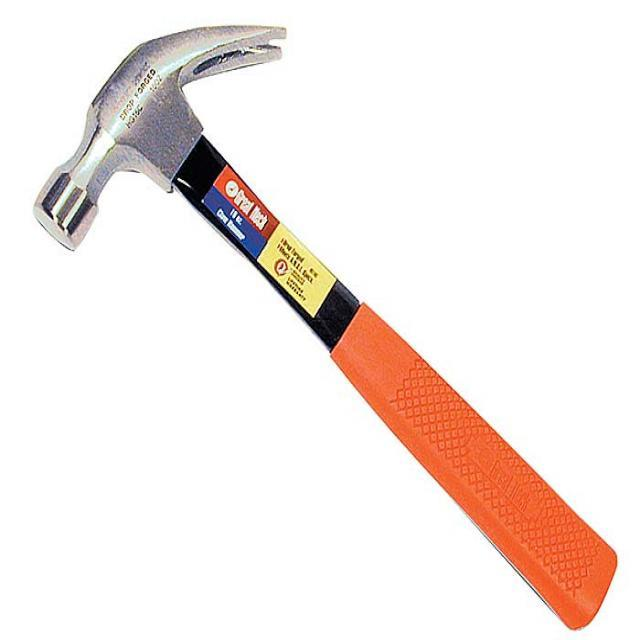hammer: (25, 12, 626, 638)
